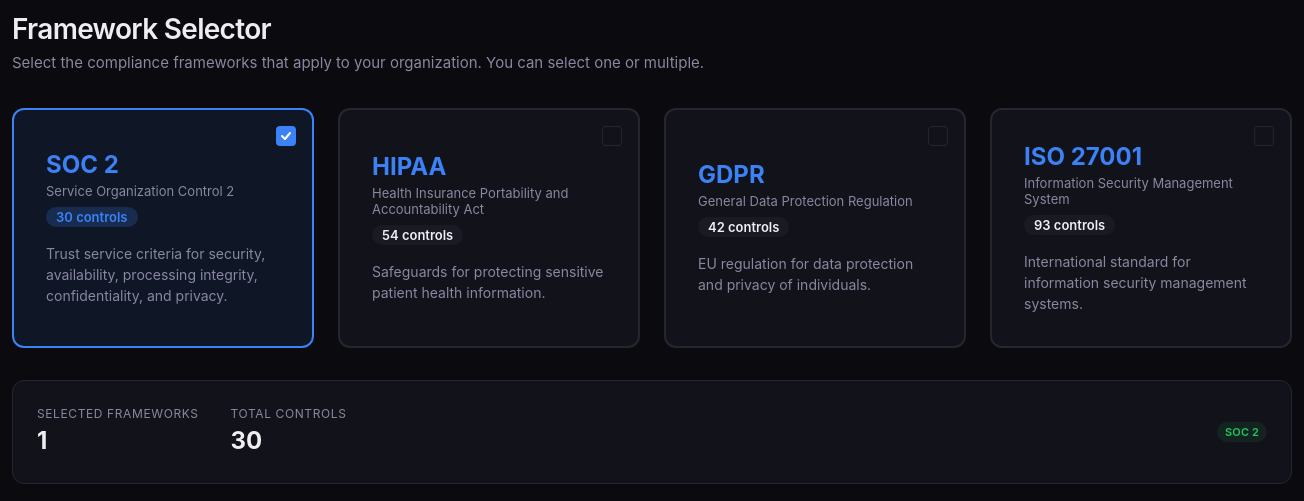
Test: FrameworksPage › shows control count and allows toggling selection
Check: the heading "Framework Selector" is shown, box left=12, top=12, right=271, bottom=46
// Click HIPAA to add it
Click the text "HIPAA": (409, 167) left=372, top=152, right=446, bottom=181
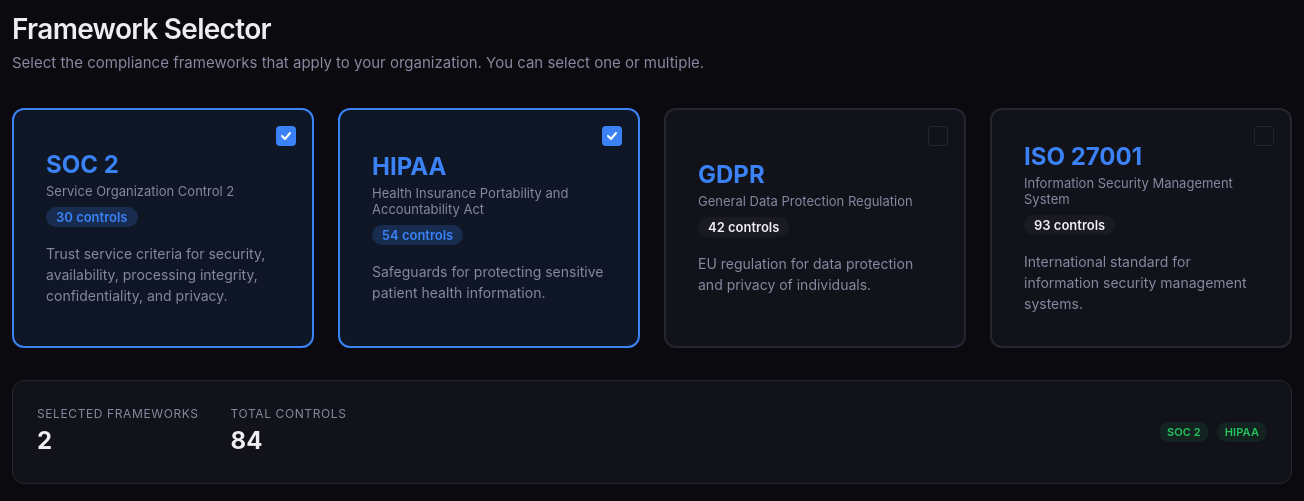
Check: the text "2" is shown, box left=37, top=426, right=52, bottom=455
